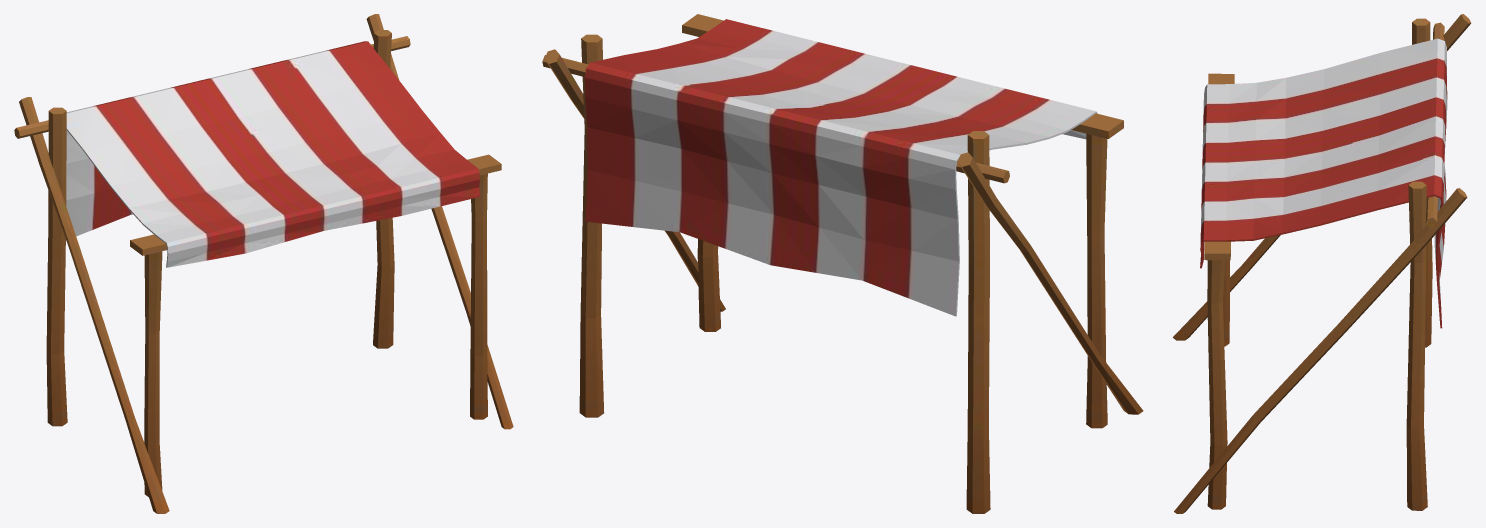
The model's file is stall_awning.glb.
The picture shows the model from 3 angles, left to right: view 1: azimuth 30°, elevation 25°; view 2: azimuth 150°, elevation 25°; view 3: azimuth 270°, elevation 25°; orthographic projection. The views are drawn at different scales.
Parts seen in each view (by area): view 1: stall_awning; view 2: stall_awning; view 3: stall_awning.
Boxes of the visible parts, x1,y1,x2,y2 form: stall_awning: [14, 14, 513, 513]; stall_awning: [542, 14, 1143, 513]; stall_awning: [1173, 14, 1471, 513].
Size of the model in its own units: 2.58 by 2 by 1.67.
1 material, 1 textured.
